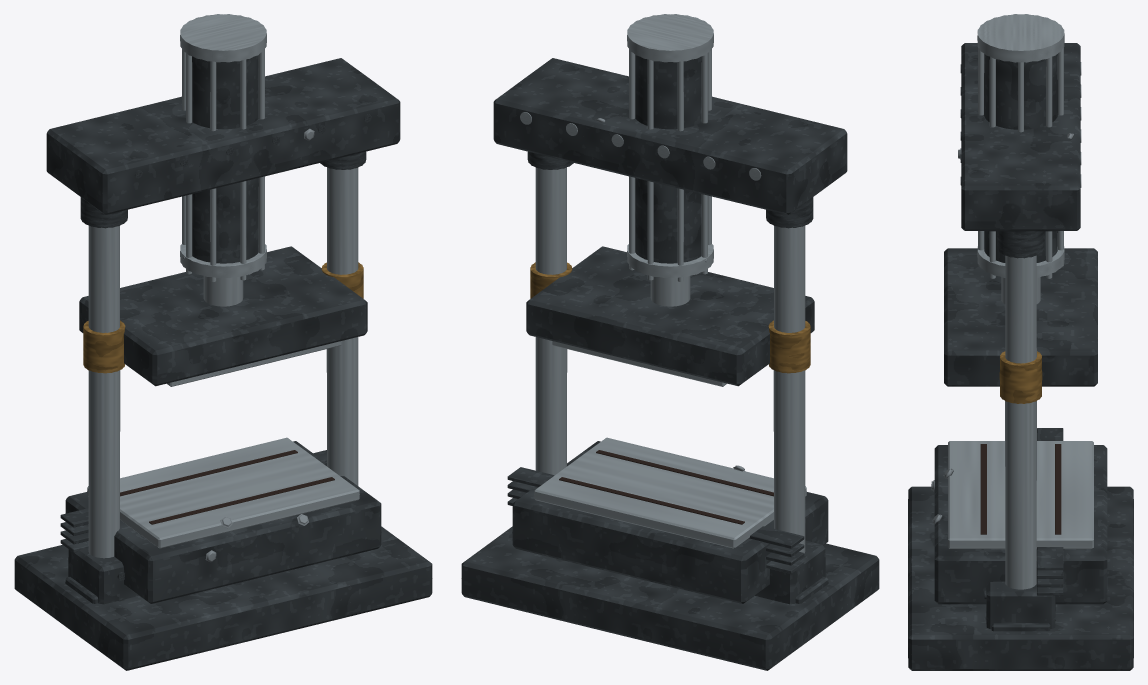
3 renders of one model, left to right at view 1: azimuth 30°, elevation 25°; view 2: azimuth 150°, elevation 25°; view 3: azimuth 270°, elevation 25°, orthographic.
Visible parts, largest first — view 1: gunmetal-cast-iron (×2), machined-bearing-steel (×2), aged-bronze, mortar-joint-recess; view 2: gunmetal-cast-iron (×2), machined-bearing-steel (×2), aged-bronze, mortar-joint-recess; view 3: gunmetal-cast-iron (×2), machined-bearing-steel, aged-bronze, mortar-joint-recess.
Boxes of the visible parts, box(x1,y1,x2,y2) form: gunmetal-cast-iron (×2): box(14, 55, 432, 670); machined-bearing-steel (×2): box(87, 14, 359, 558); aged-bronze: box(83, 262, 363, 373); mortar-joint-recess: box(120, 450, 334, 524); gunmetal-cast-iron (×2): box(461, 55, 879, 670); machined-bearing-steel (×2): box(520, 14, 806, 553); aged-bronze: box(530, 262, 810, 373); mortar-joint-recess: box(559, 450, 773, 524); gunmetal-cast-iron (×2): box(908, 43, 1133, 670); machined-bearing-steel: box(948, 14, 1093, 589); aged-bronze: box(999, 351, 1042, 403); mortar-joint-recess: box(980, 444, 1061, 534).
Bounding box in the file's own units: 1.35 × 2.35 × 0.85.
Materials: 6 (4 with a texture image).
